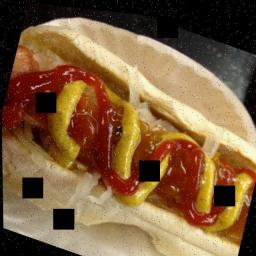hotdog: (5, 36, 48, 104)
